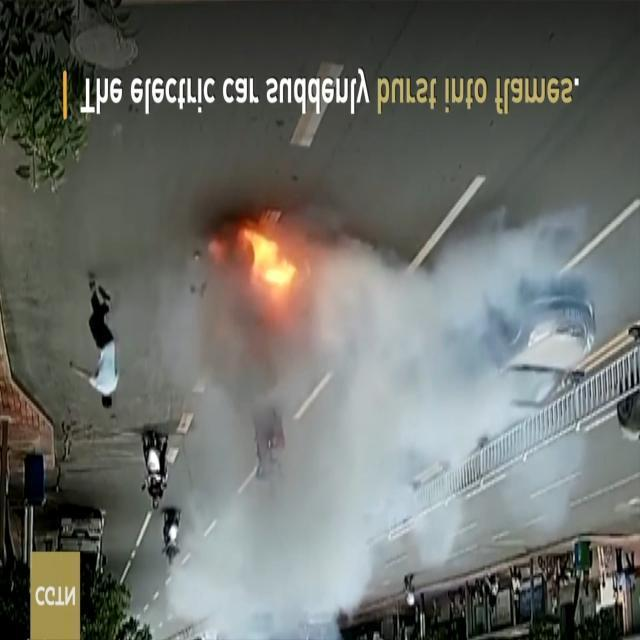fire: (206, 220, 311, 320)
